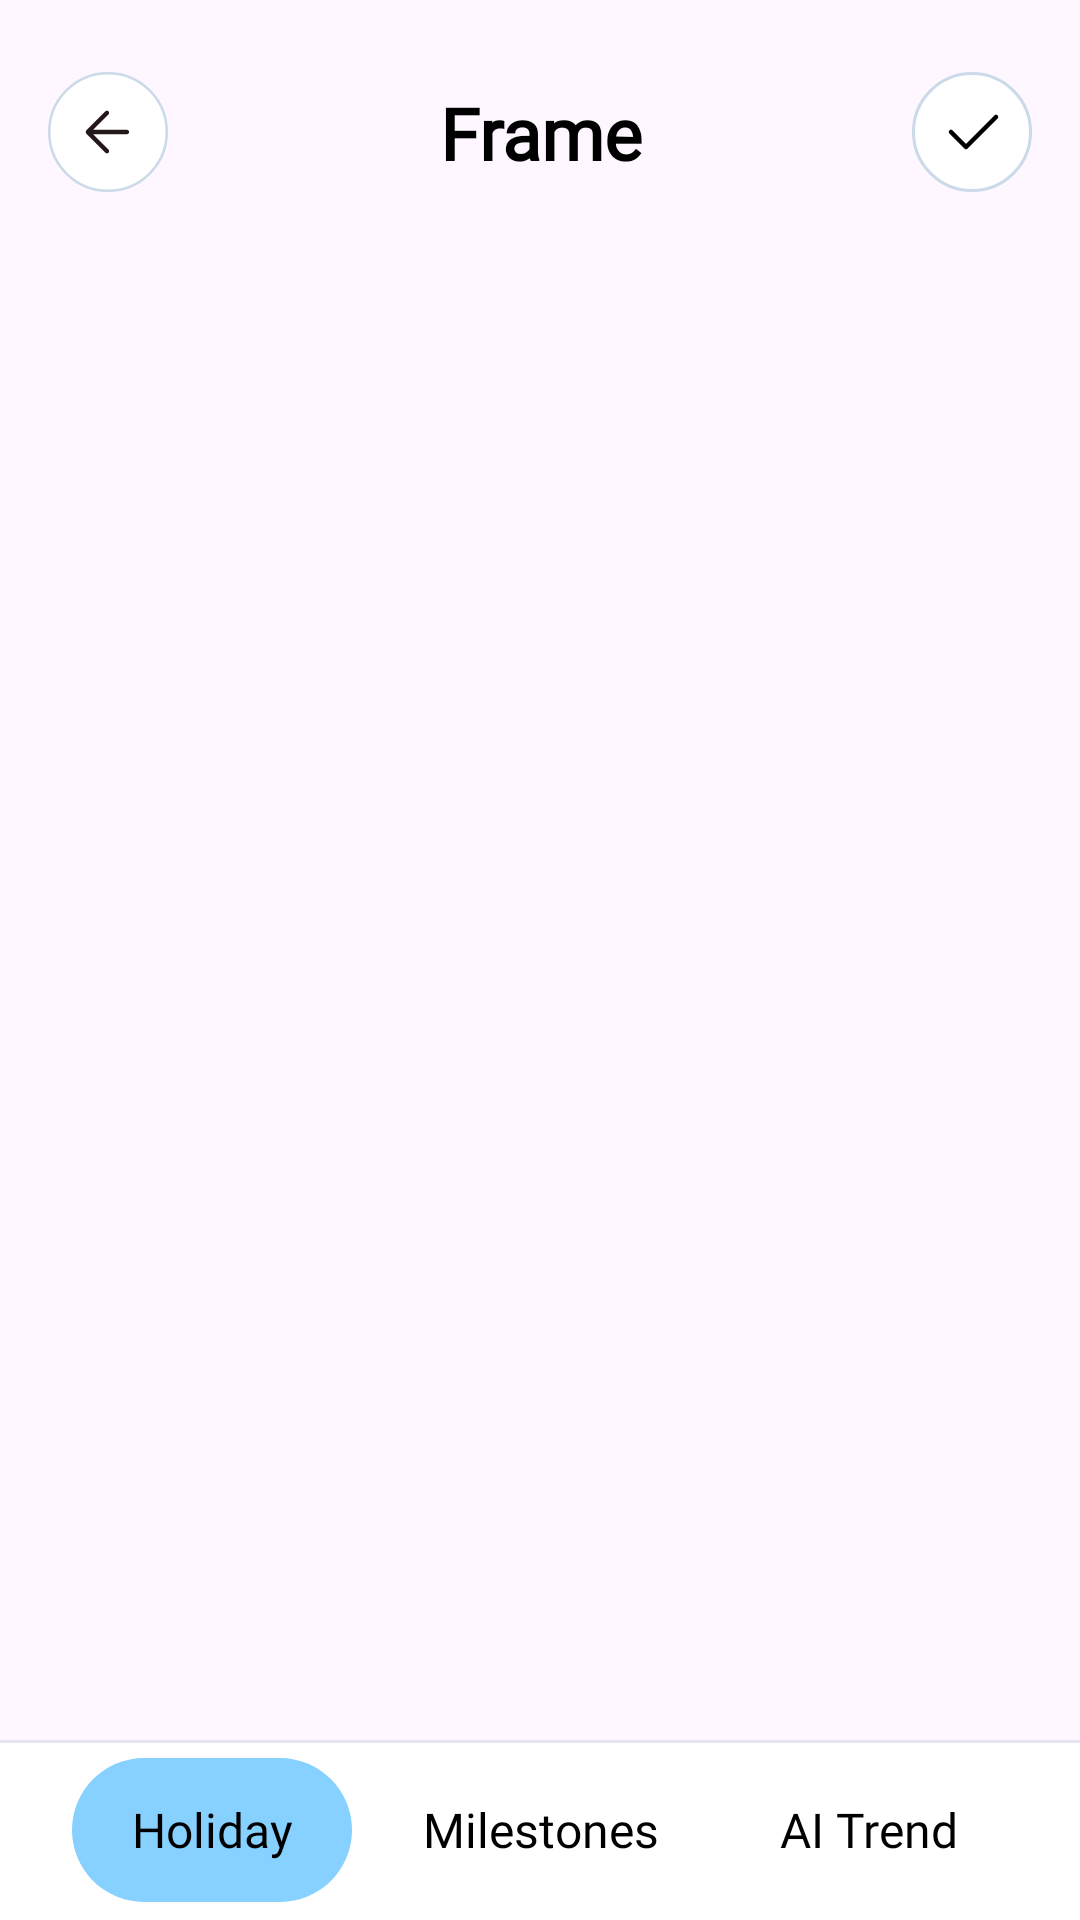

Named icons in this screenshot (1080*1920) and their bounding boxes, (x1, y1, x2, y2):
back round: (48, 72, 168, 192)
tick round: (912, 72, 1032, 192)
